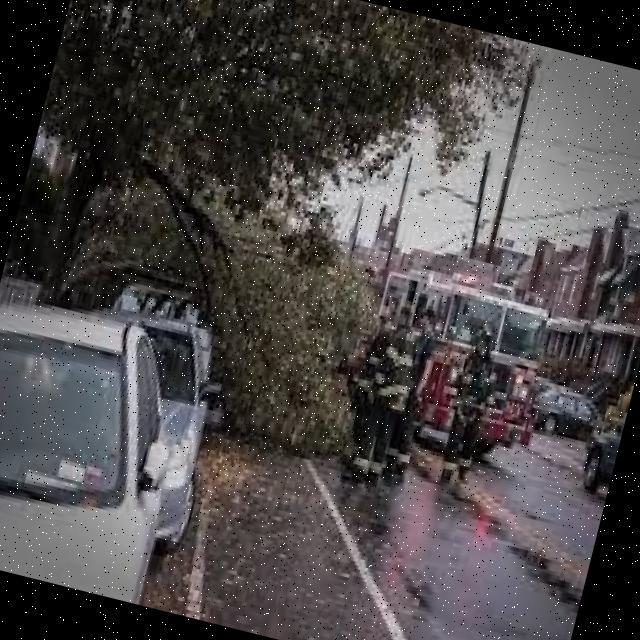fallen_object: (79, 128, 416, 460)
